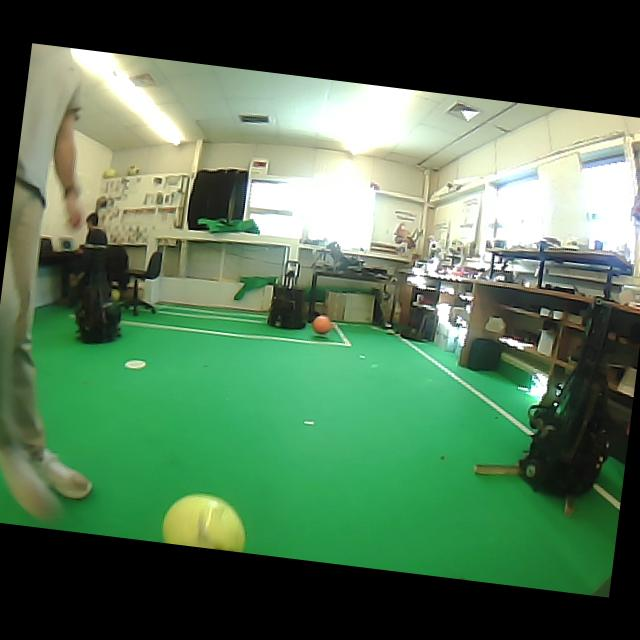ball: (162, 493, 245, 551), (312, 315, 331, 333), (102, 167, 117, 178), (110, 288, 120, 301), (126, 165, 138, 175)
robot: (519, 303, 611, 495), (75, 284, 121, 343), (267, 285, 305, 328)
